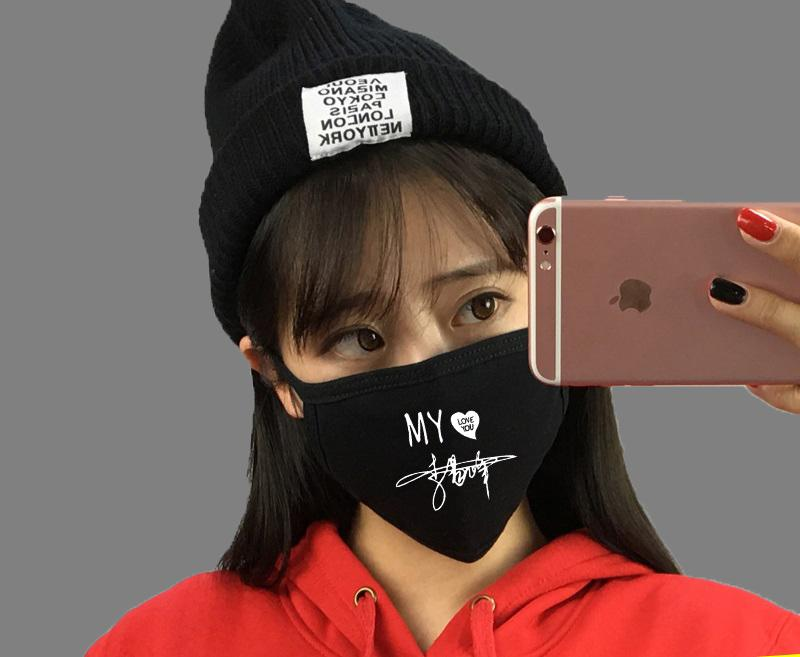OK: (298, 252, 586, 540)
